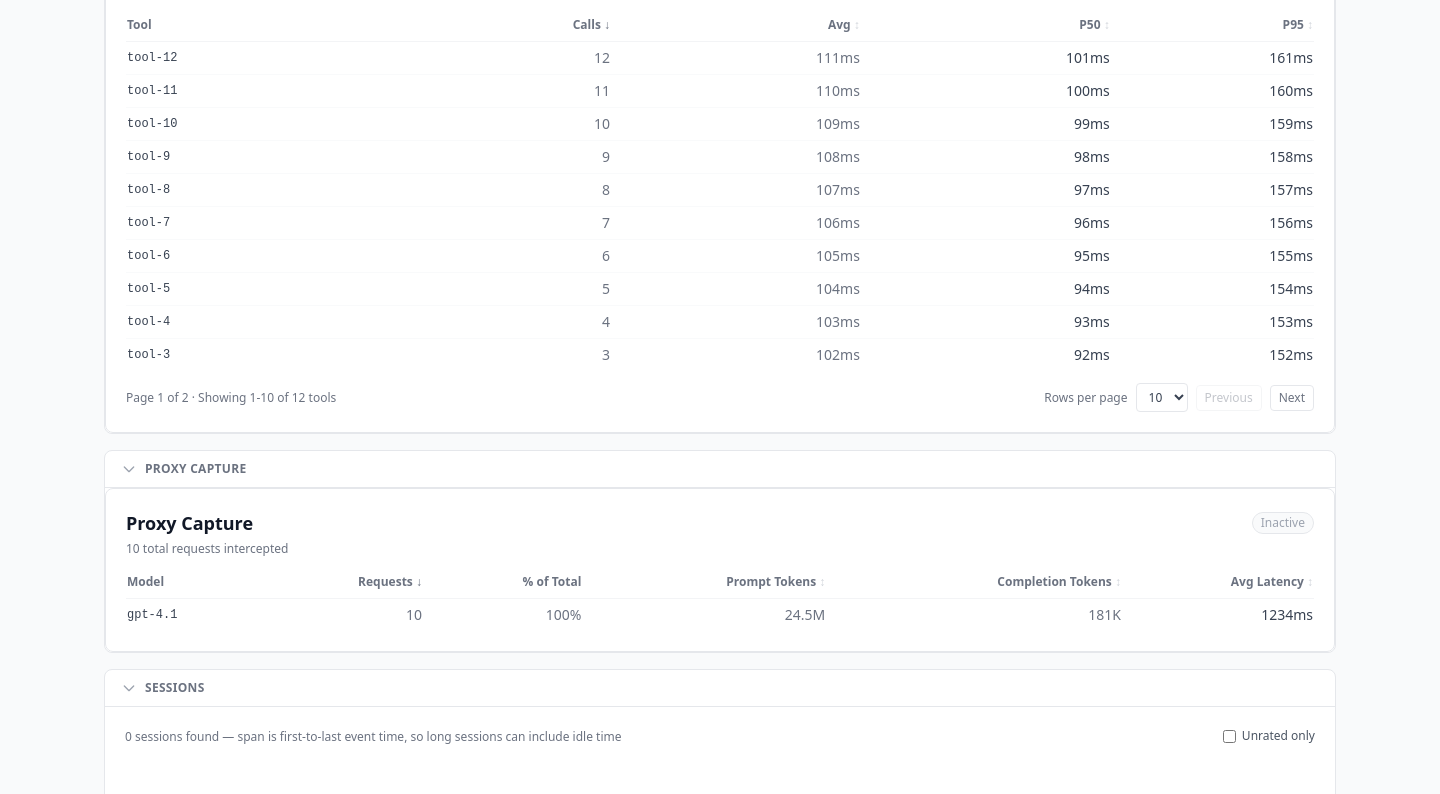
it: Dashboard page › paginates tool latency with 10 rows per page
(page scrolled)
Expected: the text "tool-12" is shown, [126,42,403,74]
Expected: the text "tool-3" is shown, [126,338,403,371]
Click the button "Next". click: (1292, 398)
box: [1270,384,1314,410]
(page scrolled)
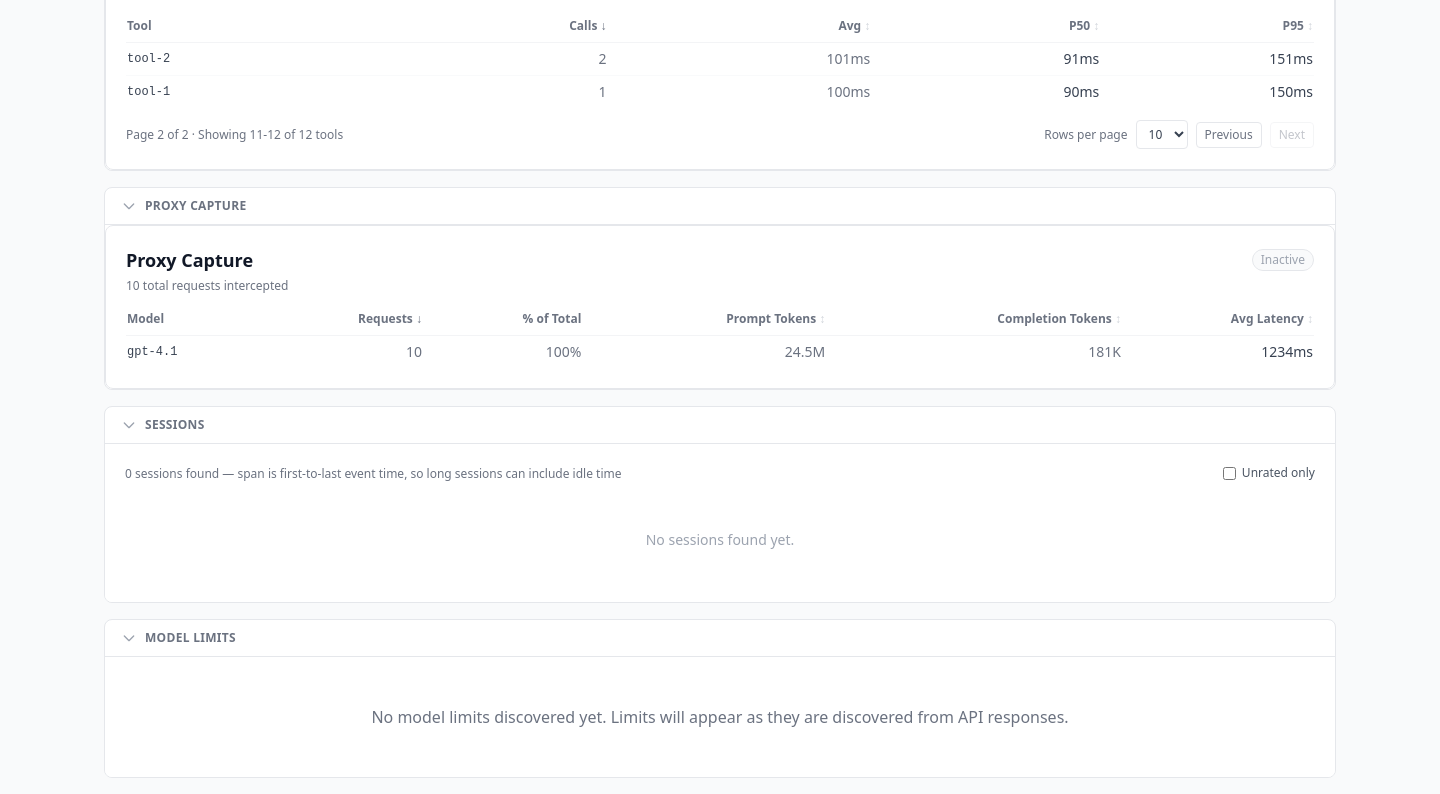
Expected: the text "tool-1" is shown, [126,76,387,108]
Now the text "tool-2" is shown, box [126,42,387,76]
Now the text "tool-12" is gone
